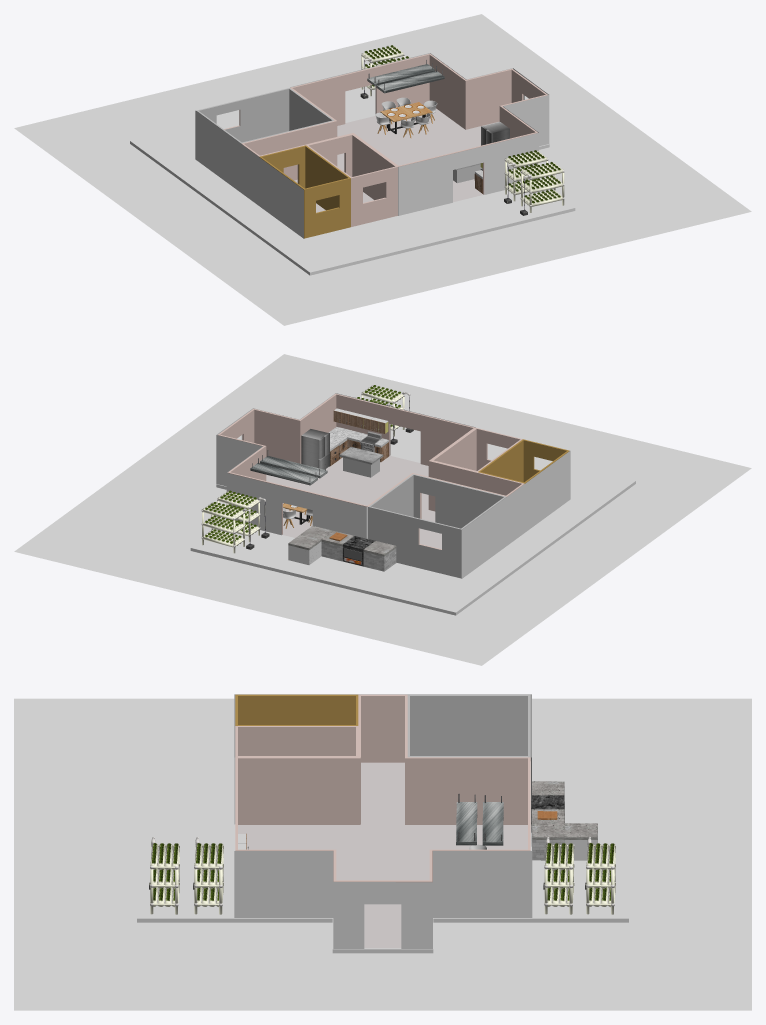
Rendered from Cas3.fbx.
3 renders of one model, top to bottom at view 1: azimuth 30°, elevation 25°; view 2: azimuth 150°, elevation 25°; view 3: azimuth 270°, elevation 25°, orthographic. The views are drawn at different scales.
Visible parts, largest first — view 1: Suelo exterior, Base casa, ParedExter, SalaComCoc, Floor.005, Baño, Estudio, Recamara, Entrada, Pasillo, Copia.003, Copia.002 (+3 smaller); view 2: Suelo exterior, Base casa, ParedExter, Recamara, SalaComCoc, Floor.005, Entrada, Baño, Estudio, Pasillo, Copia.001, Copia (+6 smaller); view 3: Suelo exterior, Base casa, ParedExter, SalaComCoc, Floor.005, Recamara, Estudio, Baño, Pasillo, Floor.001, Copia, Copia.002 (+8 smaller).
Part boxes in pixels (x1,y1,x2,y2): Suelo exterior: [14, 14, 751, 325]; Base casa: [130, 86, 575, 275]; ParedExter: [195, 53, 549, 238]; SalaComCoc: [290, 53, 537, 194]; Floor.005: [337, 108, 483, 202]; Baño: [259, 145, 350, 238]; Estudio: [306, 134, 397, 226]; Recamara: [196, 88, 334, 143]; Entrada: [466, 68, 547, 129]; Pasillo: [241, 120, 352, 183]; Copia.003: [520, 162, 564, 215]; Copia.002: [504, 150, 548, 203]; Suelo exterior: [14, 354, 751, 665]; Base casa: [190, 426, 635, 615]; ParedExter: [216, 393, 570, 578]; Recamara: [368, 474, 506, 578]; SalaComCoc: [228, 393, 475, 534]; Floor.005: [280, 456, 429, 537]; Entrada: [218, 408, 299, 463]; Baño: [478, 439, 569, 483]; Estudio: [431, 428, 522, 471]; Pasillo: [413, 460, 524, 518]; Copia.001: [201, 502, 254, 553]; Copia: [217, 490, 269, 542]; Suelo exterior: [14, 698, 751, 1010]; Base casa: [137, 742, 628, 922]; ParedExter: [234, 694, 532, 948]; SalaComCoc: [235, 757, 530, 882]; Floor.005: [238, 824, 527, 917]; Recamara: [407, 694, 530, 757]; Estudio: [235, 726, 358, 757]; Baño: [235, 694, 358, 725]; Pasillo: [358, 694, 407, 823]; Floor.001: [361, 762, 404, 823]; Copia: [543, 837, 574, 914]; Copia.002: [193, 837, 223, 914].
Bounding box in the file's own units: 3000 × 367 × 3000.
